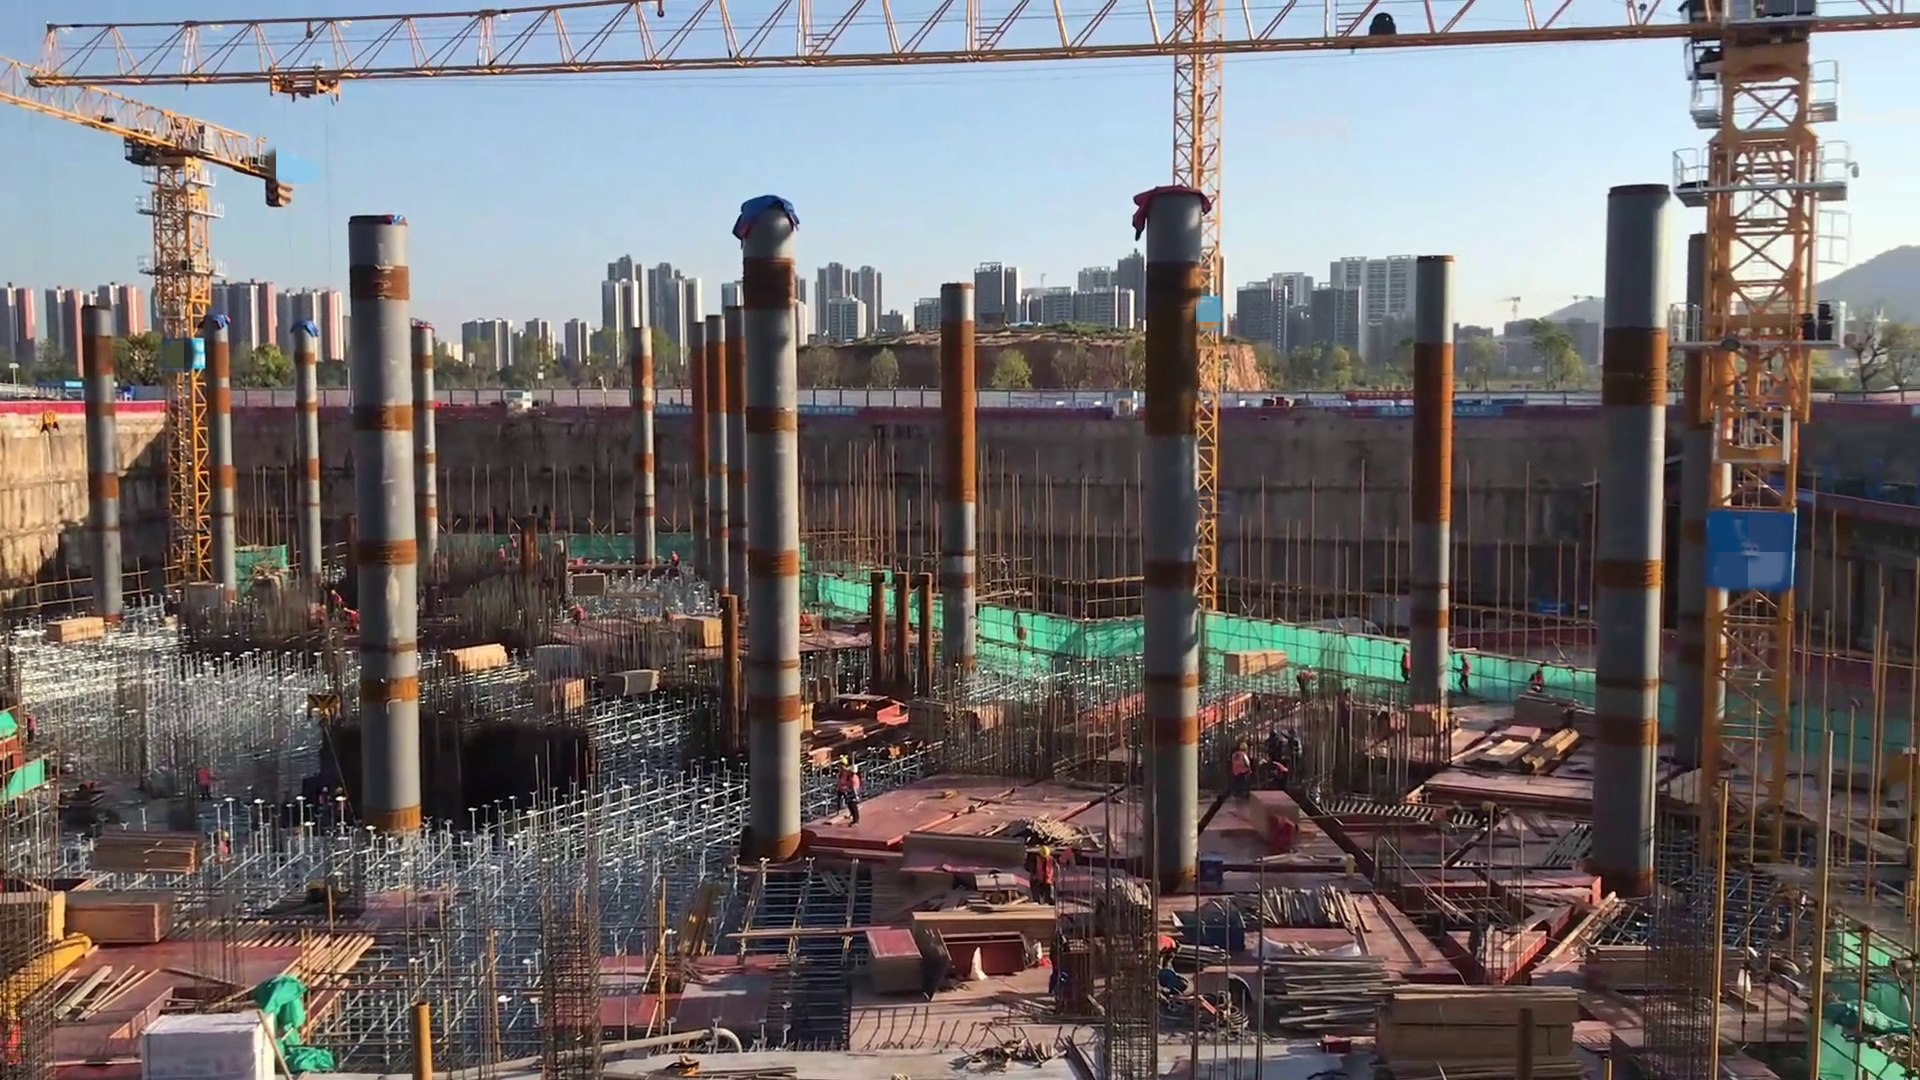board: (1, 891, 70, 967), (869, 924, 925, 1006), (682, 613, 724, 647)
helmet: (220, 826, 231, 847), (1036, 845, 1052, 857), (1067, 839, 1081, 851), (839, 755, 849, 771), (850, 762, 860, 779), (330, 587, 337, 596)
hook: (1181, 909, 1251, 957), (37, 403, 69, 441)
person: (1025, 840, 1060, 910), (1269, 812, 1307, 858), (1259, 754, 1293, 800), (1230, 735, 1253, 804), (1057, 833, 1088, 883), (1149, 931, 1184, 970), (1292, 665, 1322, 711), (1395, 639, 1416, 697), (834, 753, 851, 821), (326, 579, 348, 628), (846, 763, 862, 831), (1288, 727, 1309, 773), (1456, 647, 1472, 705), (195, 761, 213, 808), (23, 711, 39, 759), (215, 827, 232, 871), (343, 608, 368, 636), (1527, 665, 1548, 696), (571, 602, 588, 636), (668, 545, 681, 569)
slogan: (795, 404, 861, 422), (646, 403, 698, 419), (1454, 405, 1499, 419), (1376, 406, 1415, 421)
vest: (1034, 854, 1056, 889), (1231, 748, 1252, 779), (833, 765, 850, 795), (197, 768, 212, 788), (1532, 672, 1545, 690)
wood: (1375, 974, 1594, 1074), (1253, 951, 1406, 1045), (1586, 942, 1750, 993), (82, 826, 205, 885), (910, 906, 1061, 951), (63, 890, 175, 942), (432, 638, 511, 683), (1221, 645, 1289, 689), (36, 614, 107, 651), (600, 663, 665, 699)
